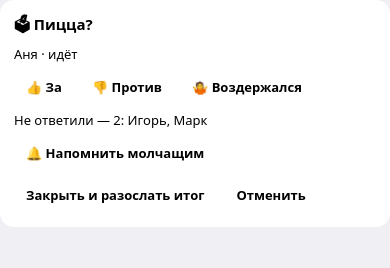
Scenario: PollCard — «🔔 Напомнить молчащим» › управляющий, опрос идёт, молчащие есть — кнопка шлёт и пишет «Напомнил: D из N»
Click the button "🔔 Напомнить молчащим". click: (115, 153)
box: [14,135,216,171]
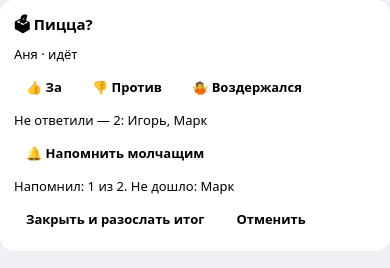
Expected: the text "Напомнил: 1 из 2. Не дошло: Марк" is shown, [14,177,234,195]
